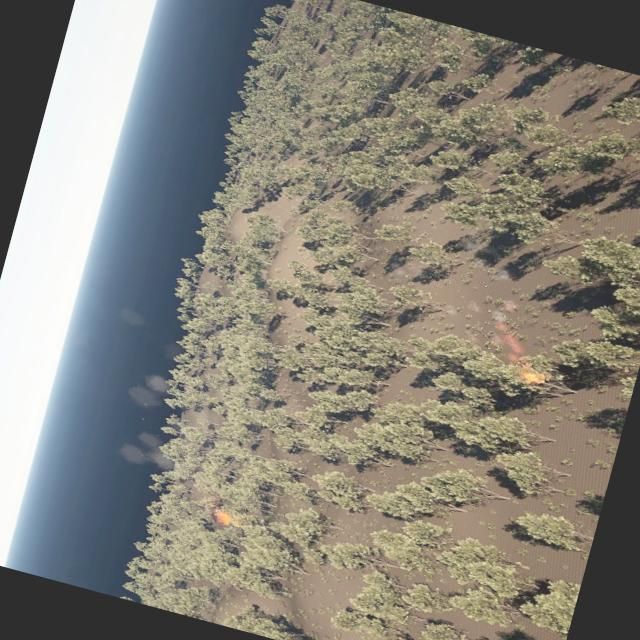fire: (521, 368, 544, 384), (216, 509, 234, 524)
smoke: (479, 296, 537, 364), (114, 426, 180, 474), (126, 366, 172, 412), (110, 301, 152, 330)
